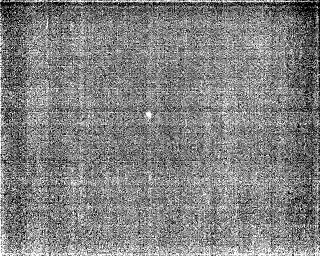BIRD: (144, 109, 154, 120)
